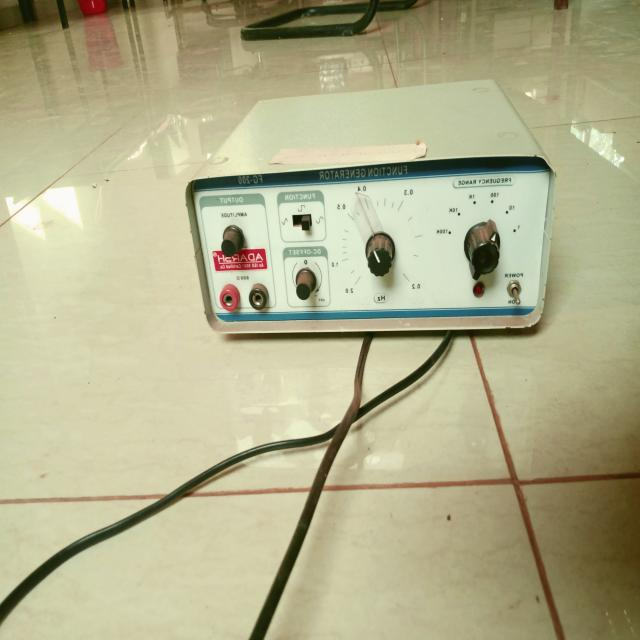Function Generator 100Khz: (181, 67, 560, 345)
